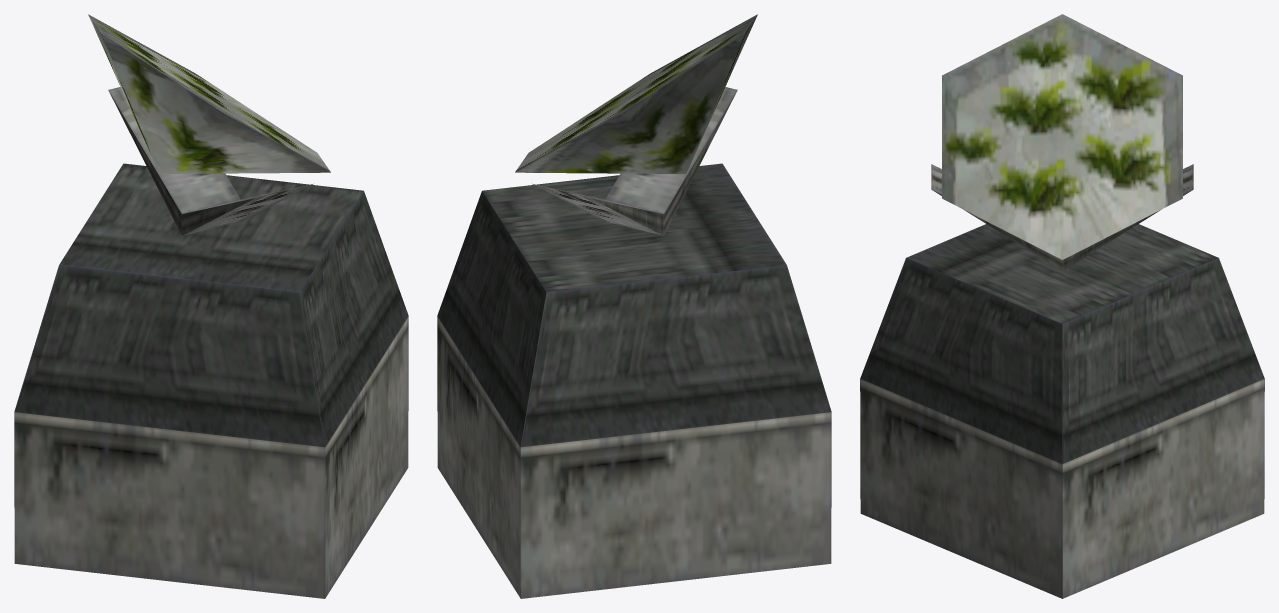
The model's file is ins_all_flora_small_l4.fbx.
The picture shows the model from 3 angles, left to right: view 1: azimuth 30°, elevation 25°; view 2: azimuth 150°, elevation 25°; view 3: azimuth 270°, elevation 25°; orthographic projection. The views are drawn at different scales.
Parts seen in each view (by area): view 1: mesh_node; view 2: mesh_node; view 3: mesh_node.
Part boxes in pixels (x1=…): mesh_node: x1=14, y1=14, x2=408, y2=598; mesh_node: x1=437, y1=14, x2=831, y2=598; mesh_node: x1=860, y1=14, x2=1264, y2=598.
Size of the model in its own units: 3 by 3.7 by 3.
1 material, 1 textured.
